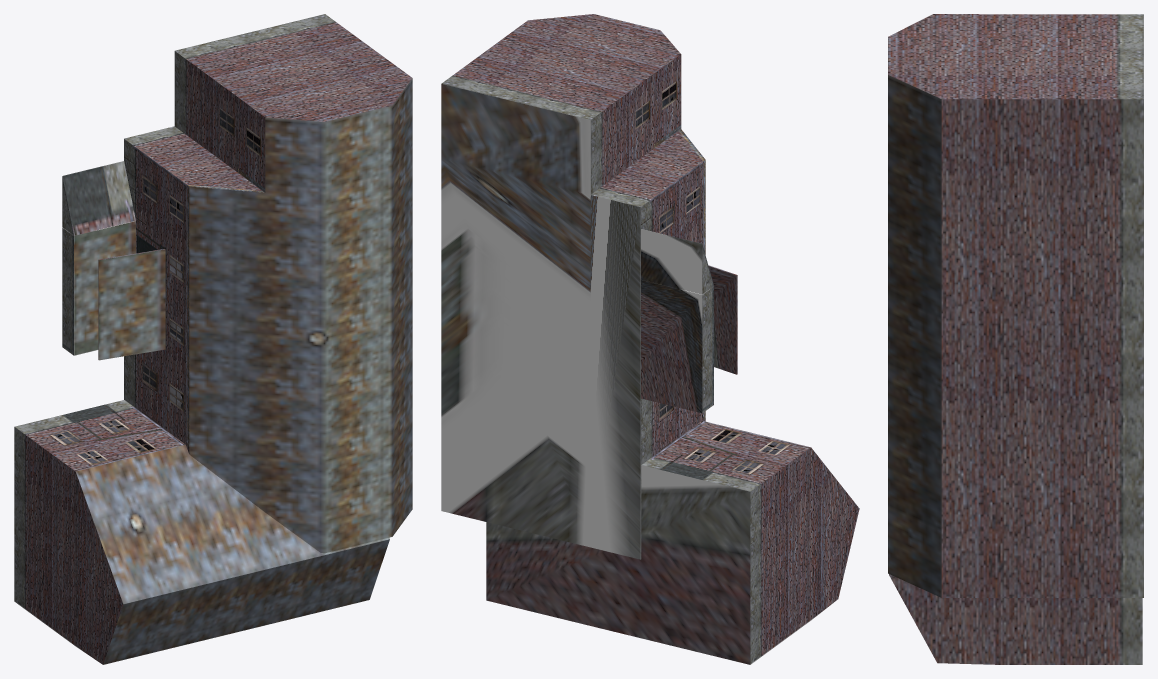
The model's file is house2_LOD3.fbx.
3 renders of one model, left to right at view 1: azimuth 30°, elevation 25°; view 2: azimuth 150°, elevation 25°; view 3: azimuth 270°, elevation 25°, orthographic. The views are drawn at different scales.
Visible parts, largest first — view 1: MDL-polym1; view 2: MDL-polym1; view 3: MDL-polym1.
Boxes of the visible parts, x1=… form: MDL-polym1: x1=14, y1=14, x2=412, y2=664; MDL-polym1: x1=441, y1=14, x2=859, y2=664; MDL-polym1: x1=888, y1=14, x2=1143, y2=664.
Bounding box in the file's own units: 28.01 × 43.86 × 17.2.
